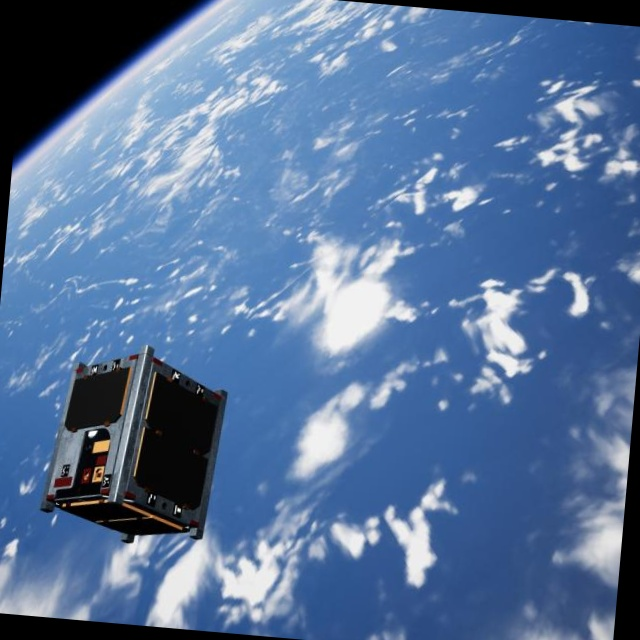satellite: (35, 342, 236, 550)
